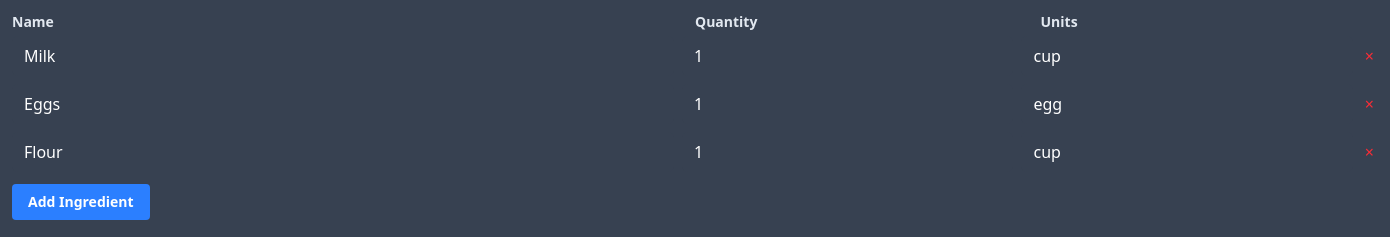
IngredientsInput Component › removes input row when remove button is clicked
Click the button named "remove ingredient": [1369, 56] box [1361, 36, 1378, 76]
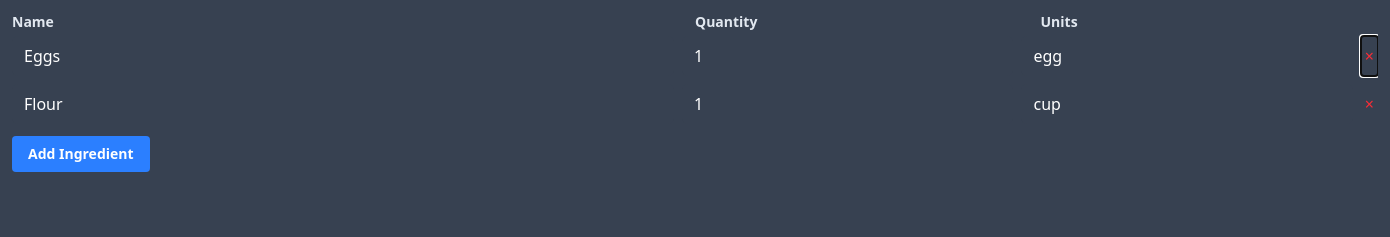
Expected: the number of fields named "ingredient name" is 2, [12, 36, 674, 76]; [12, 84, 674, 124]
Expected: the number of number fields named "ingredient quantity" is 2, [682, 36, 1013, 76]; [682, 84, 1013, 124]
Expected: the number of fields named "ingredient units" is 2, [1022, 36, 1353, 76]; [1022, 84, 1353, 124]
